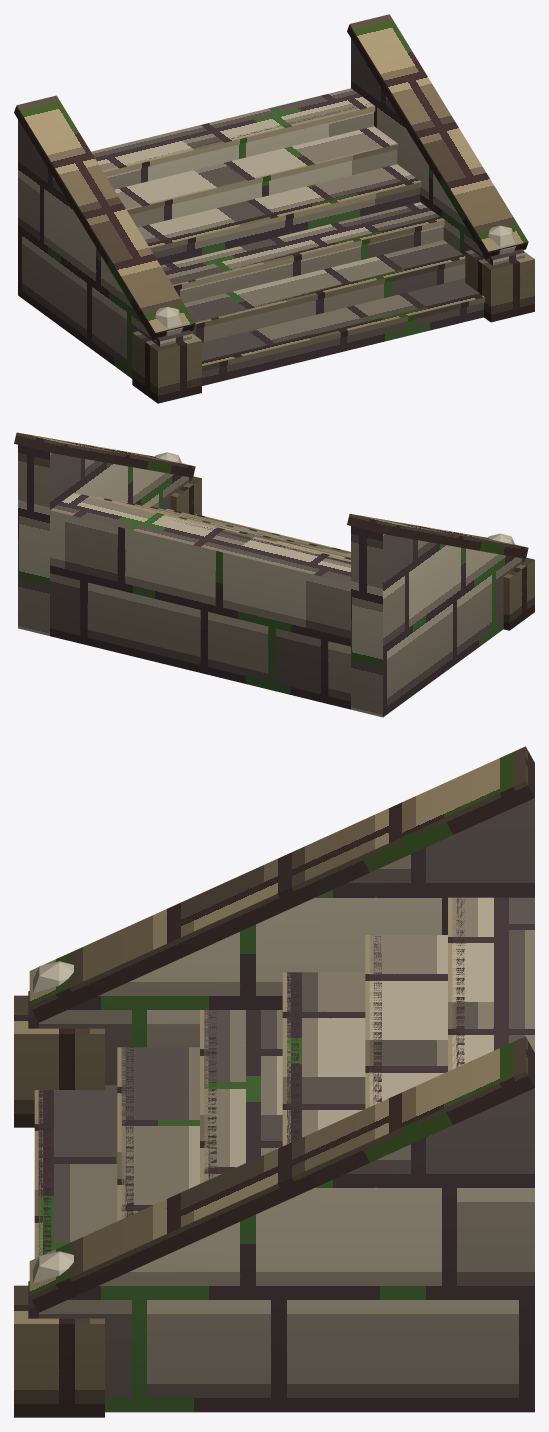
The model's file is scene_stair_step.glb.
3 renders of one model, top to bottom at view 1: azimuth 30°, elevation 25°; view 2: azimuth 150°, elevation 25°; view 3: azimuth 270°, elevation 25°, orthographic. The views are drawn at different scales.
Visible parts, largest first — view 1: scene_stair_step; view 2: scene_stair_step; view 3: scene_stair_step.
Boxes of the visible parts, x1,y1,x2,y2 form: scene_stair_step: [14, 14, 534, 403]; scene_stair_step: [14, 432, 534, 717]; scene_stair_step: [14, 746, 534, 1417].
Size of the model in its own units: 3.76 by 1.84 by 2.52.
2 materials, 1 textured.
